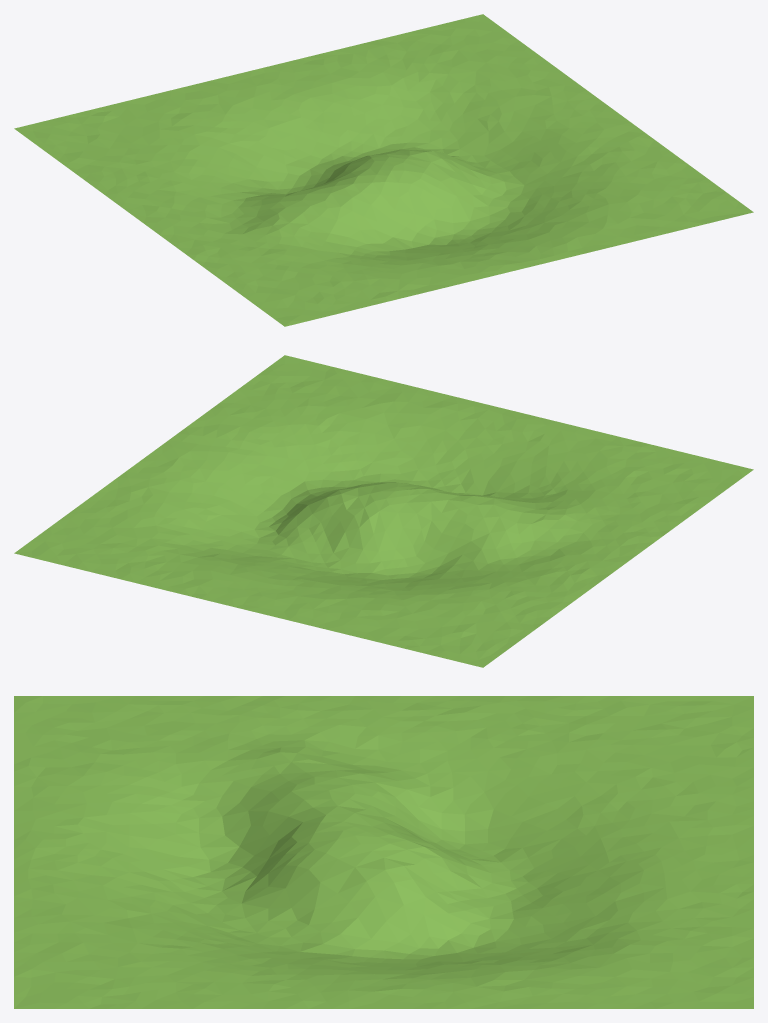
Rendered from MT_Terrain_L_b_08.fbx.
3 renders of one model, top to bottom at view 1: azimuth 30°, elevation 25°; view 2: azimuth 150°, elevation 25°; view 3: azimuth 270°, elevation 25°, orthographic. The views are drawn at different scales.
Visible parts, largest first — view 1: MT_Terrain_L_b_08; view 2: MT_Terrain_L_b_08; view 3: MT_Terrain_L_b_08.
Boxes of the visible parts, x1,y1,x2,y2 form: MT_Terrain_L_b_08: (14,14,753,326); MT_Terrain_L_b_08: (14,355,753,667); MT_Terrain_L_b_08: (14,696,753,1008).
Bounding box in the file's own units: 10000 × 764 × 10000.
